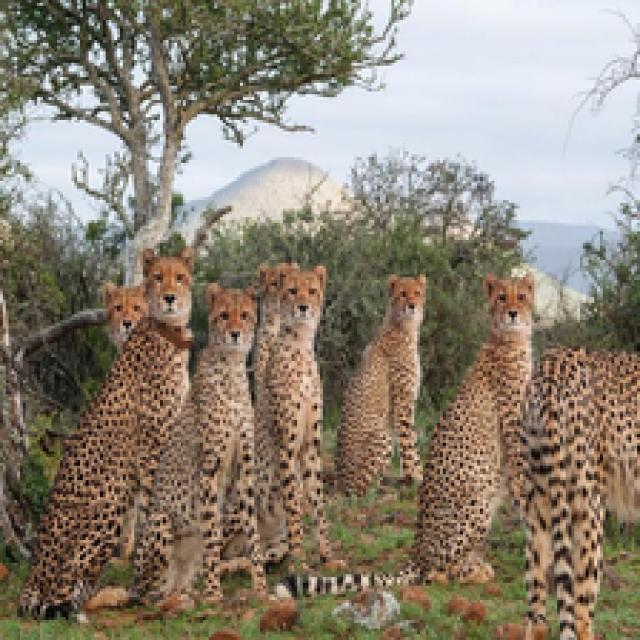cheetah: (48, 258, 188, 598), (402, 256, 540, 591), (521, 341, 640, 640), (176, 274, 284, 580), (246, 260, 343, 556), (342, 268, 436, 492), (109, 276, 142, 331)
